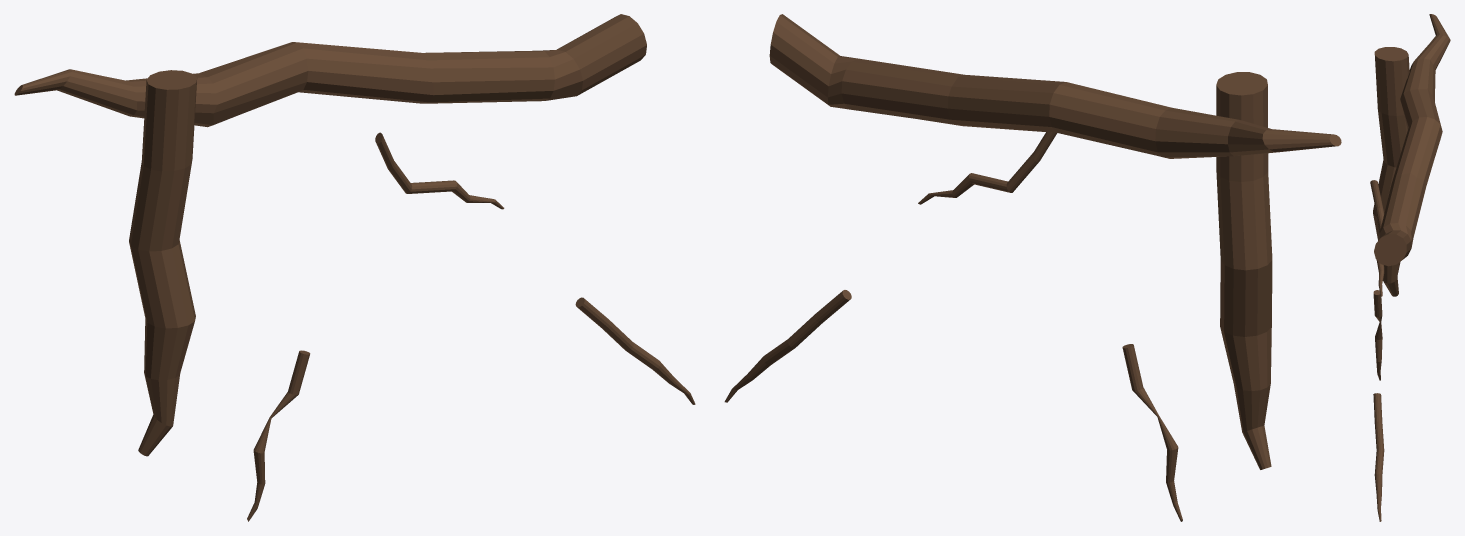
The model's file is BrokenBranches.fbx.
3 renders of one model, left to right at view 1: azimuth 30°, elevation 25°; view 2: azimuth 150°, elevation 25°; view 3: azimuth 270°, elevation 25°, orthographic. The views are drawn at different scales.
Visible parts, largest first — view 1: Cylinder.001, Cylinder, Cylinder.002, Cylinder.003, Cylinder.004; view 2: Cylinder.001, Cylinder, Cylinder.002, Cylinder.004, Cylinder.003; view 3: Cylinder.001, Cylinder, Cylinder.002, Cylinder.004, Cylinder.003.
Part boxes in pixels (bbox=[...]): Cylinder.001: bbox=[14, 14, 646, 127]; Cylinder: bbox=[129, 70, 197, 456]; Cylinder.002: bbox=[575, 297, 695, 404]; Cylinder.003: bbox=[375, 132, 504, 209]; Cylinder.004: bbox=[247, 350, 310, 521]; Cylinder.001: bbox=[769, 14, 1341, 158]; Cylinder: bbox=[1216, 72, 1272, 469]; Cylinder.002: bbox=[724, 290, 851, 402]; Cylinder.004: bbox=[1122, 344, 1182, 521]; Cylinder.003: bbox=[918, 132, 1057, 204]; Cylinder.001: bbox=[1374, 14, 1450, 266]; Cylinder: bbox=[1373, 47, 1409, 296]; Cylinder.002: bbox=[1373, 393, 1384, 521]; Cylinder.004: bbox=[1373, 290, 1382, 380]; Cylinder.003: bbox=[1370, 180, 1384, 296].
Bounding box in the file's own units: 5.8 × 3.91 × 0.9347.
